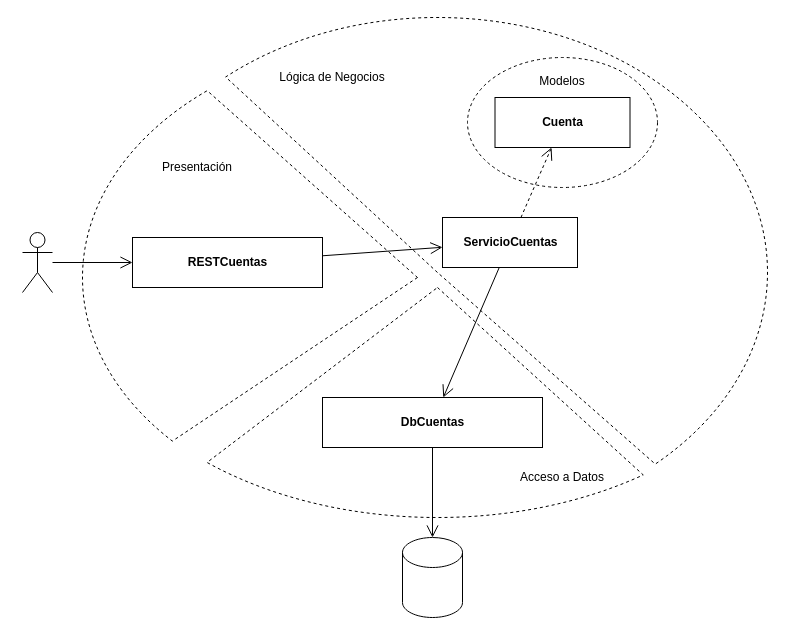
The diagram is 810 pixels wide and 635 high, and some of its shapes have lost their labels. The box of each missing label's shape, as (x1, y1, x2, y2) in pixels:
DB: (402, 536, 462, 618)
Usuario: (22, 232, 52, 292)
